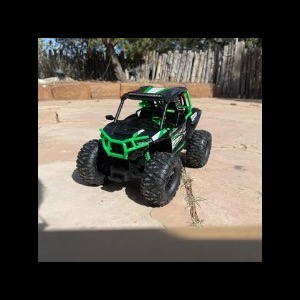polaris: (75, 81, 215, 209)
